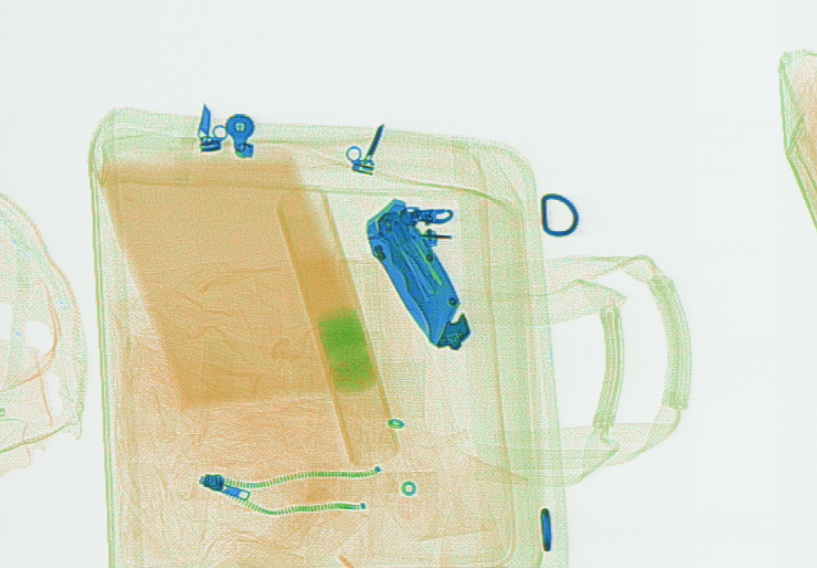firecrackers: (276, 184, 401, 468)
knife: (363, 194, 470, 349)
